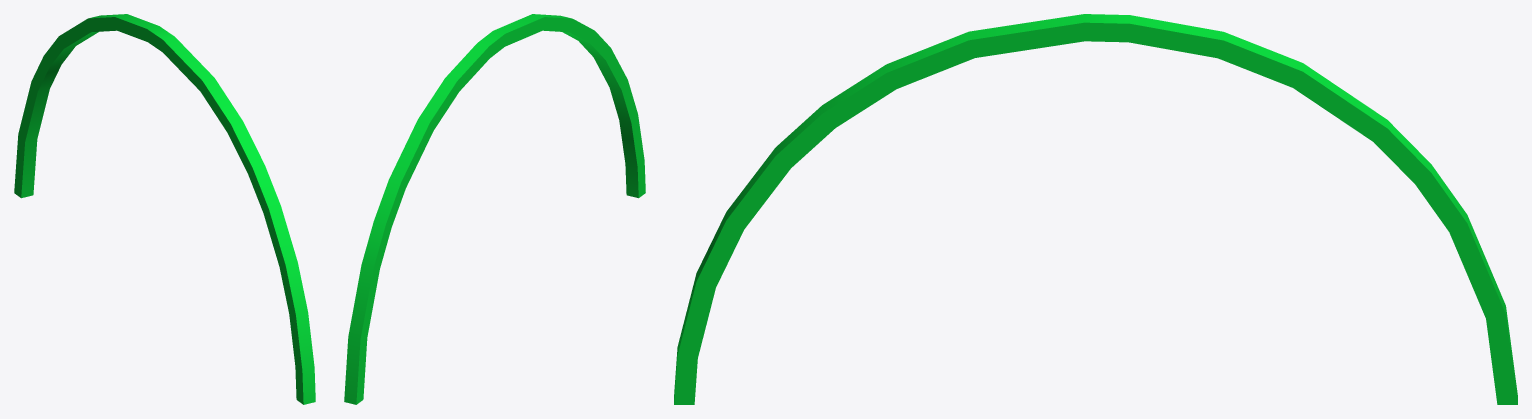
File: Metal_Stem_04.fbx
The picture shows the model from 3 angles, left to right: view 1: azimuth 30°, elevation 25°; view 2: azimuth 150°, elevation 25°; view 3: azimuth 270°, elevation 25°; orthographic projection. The views are drawn at different scales.
Parts seen in each view (by area): view 1: Metal_Stem_04; view 2: Metal_Stem_04; view 3: Metal_Stem_04.
Boxes of the visible parts, x1,y1,x2,y2 form: Metal_Stem_04: (14,14,315,404); Metal_Stem_04: (344,14,645,404); Metal_Stem_04: (674,14,1517,404).
Size of the model in its own units: 0.1817 by 3.72 by 7.45.
